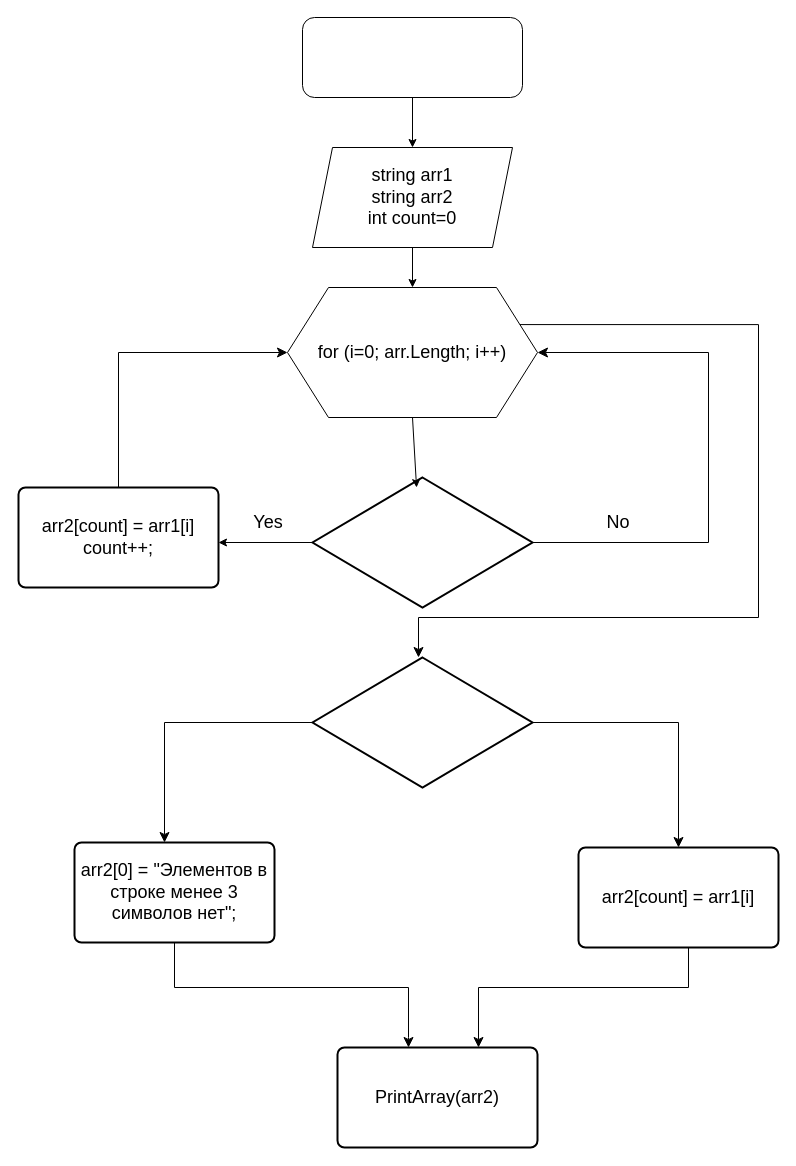
Some shapes in this 796 by 1166 pixel diagram are drawn without their labels. The centre of each missing label's shape, as x and y in pixels:
"if (arr1[i].Length<=3)" belongs at pixel 422 542.
"if (count == 0)" belongs at pixel 422 722.
"SecondArrayBelowFour" belongs at pixel 412 57.
